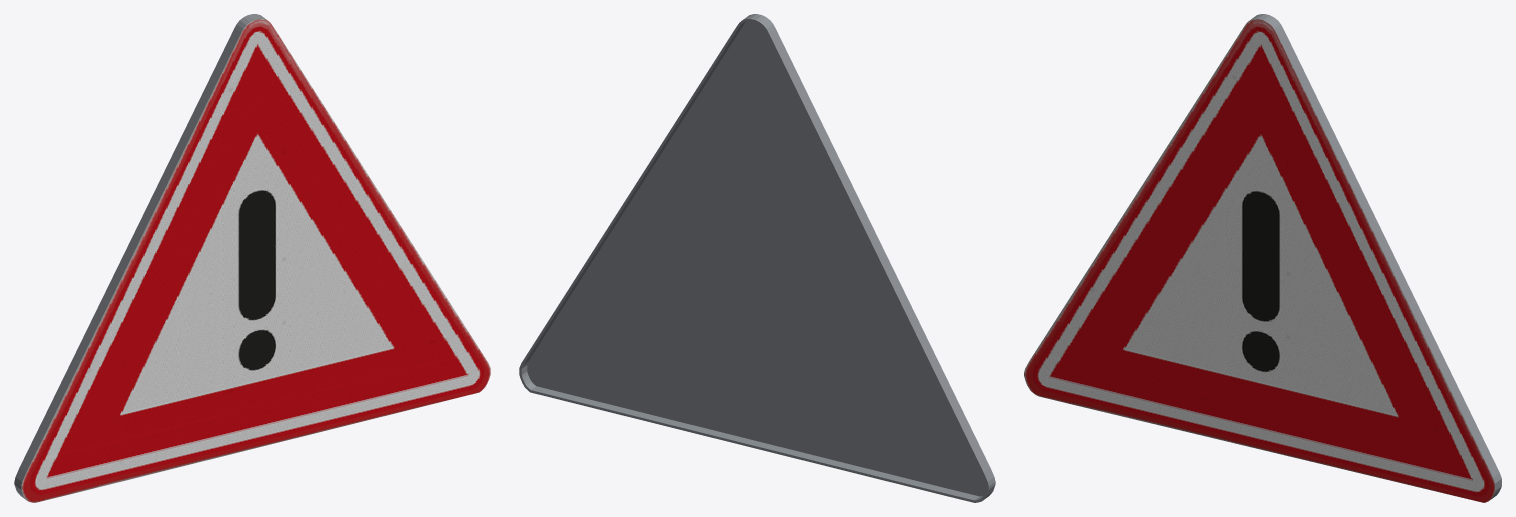
3 views of the same model, side by side, from view 1: azimuth 30°, elevation 25°; view 2: azimuth 150°, elevation 25°; view 3: azimuth 330°, elevation 25° (orthographic).
Parts seen in each view (by area): view 1: cat_ad421df2865c132b; view 2: cat_ad421df2865c132b; view 3: cat_ad421df2865c132b.
Boxes of the visible parts, x1=… form: cat_ad421df2865c132b: x1=14, y1=14, x2=490, y2=502; cat_ad421df2865c132b: x1=519, y1=14, x2=995, y2=502; cat_ad421df2865c132b: x1=1024, y1=14, x2=1501, y2=502.
Bounding box in the file's own units: 0.6 × 0.015 × 0.5245.
Materials: 2 (1 with a texture image).
